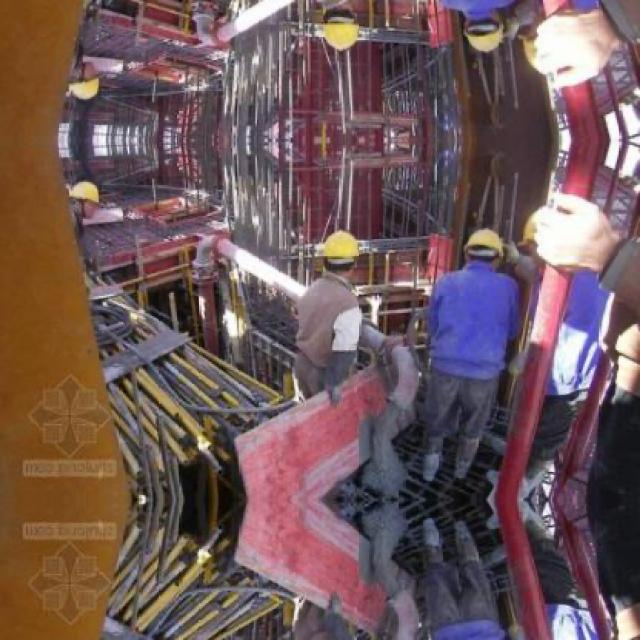helmet: (318, 225, 364, 281), (318, 0, 364, 56), (466, 227, 505, 268), (466, 14, 505, 55), (71, 178, 103, 218), (71, 64, 103, 104)
